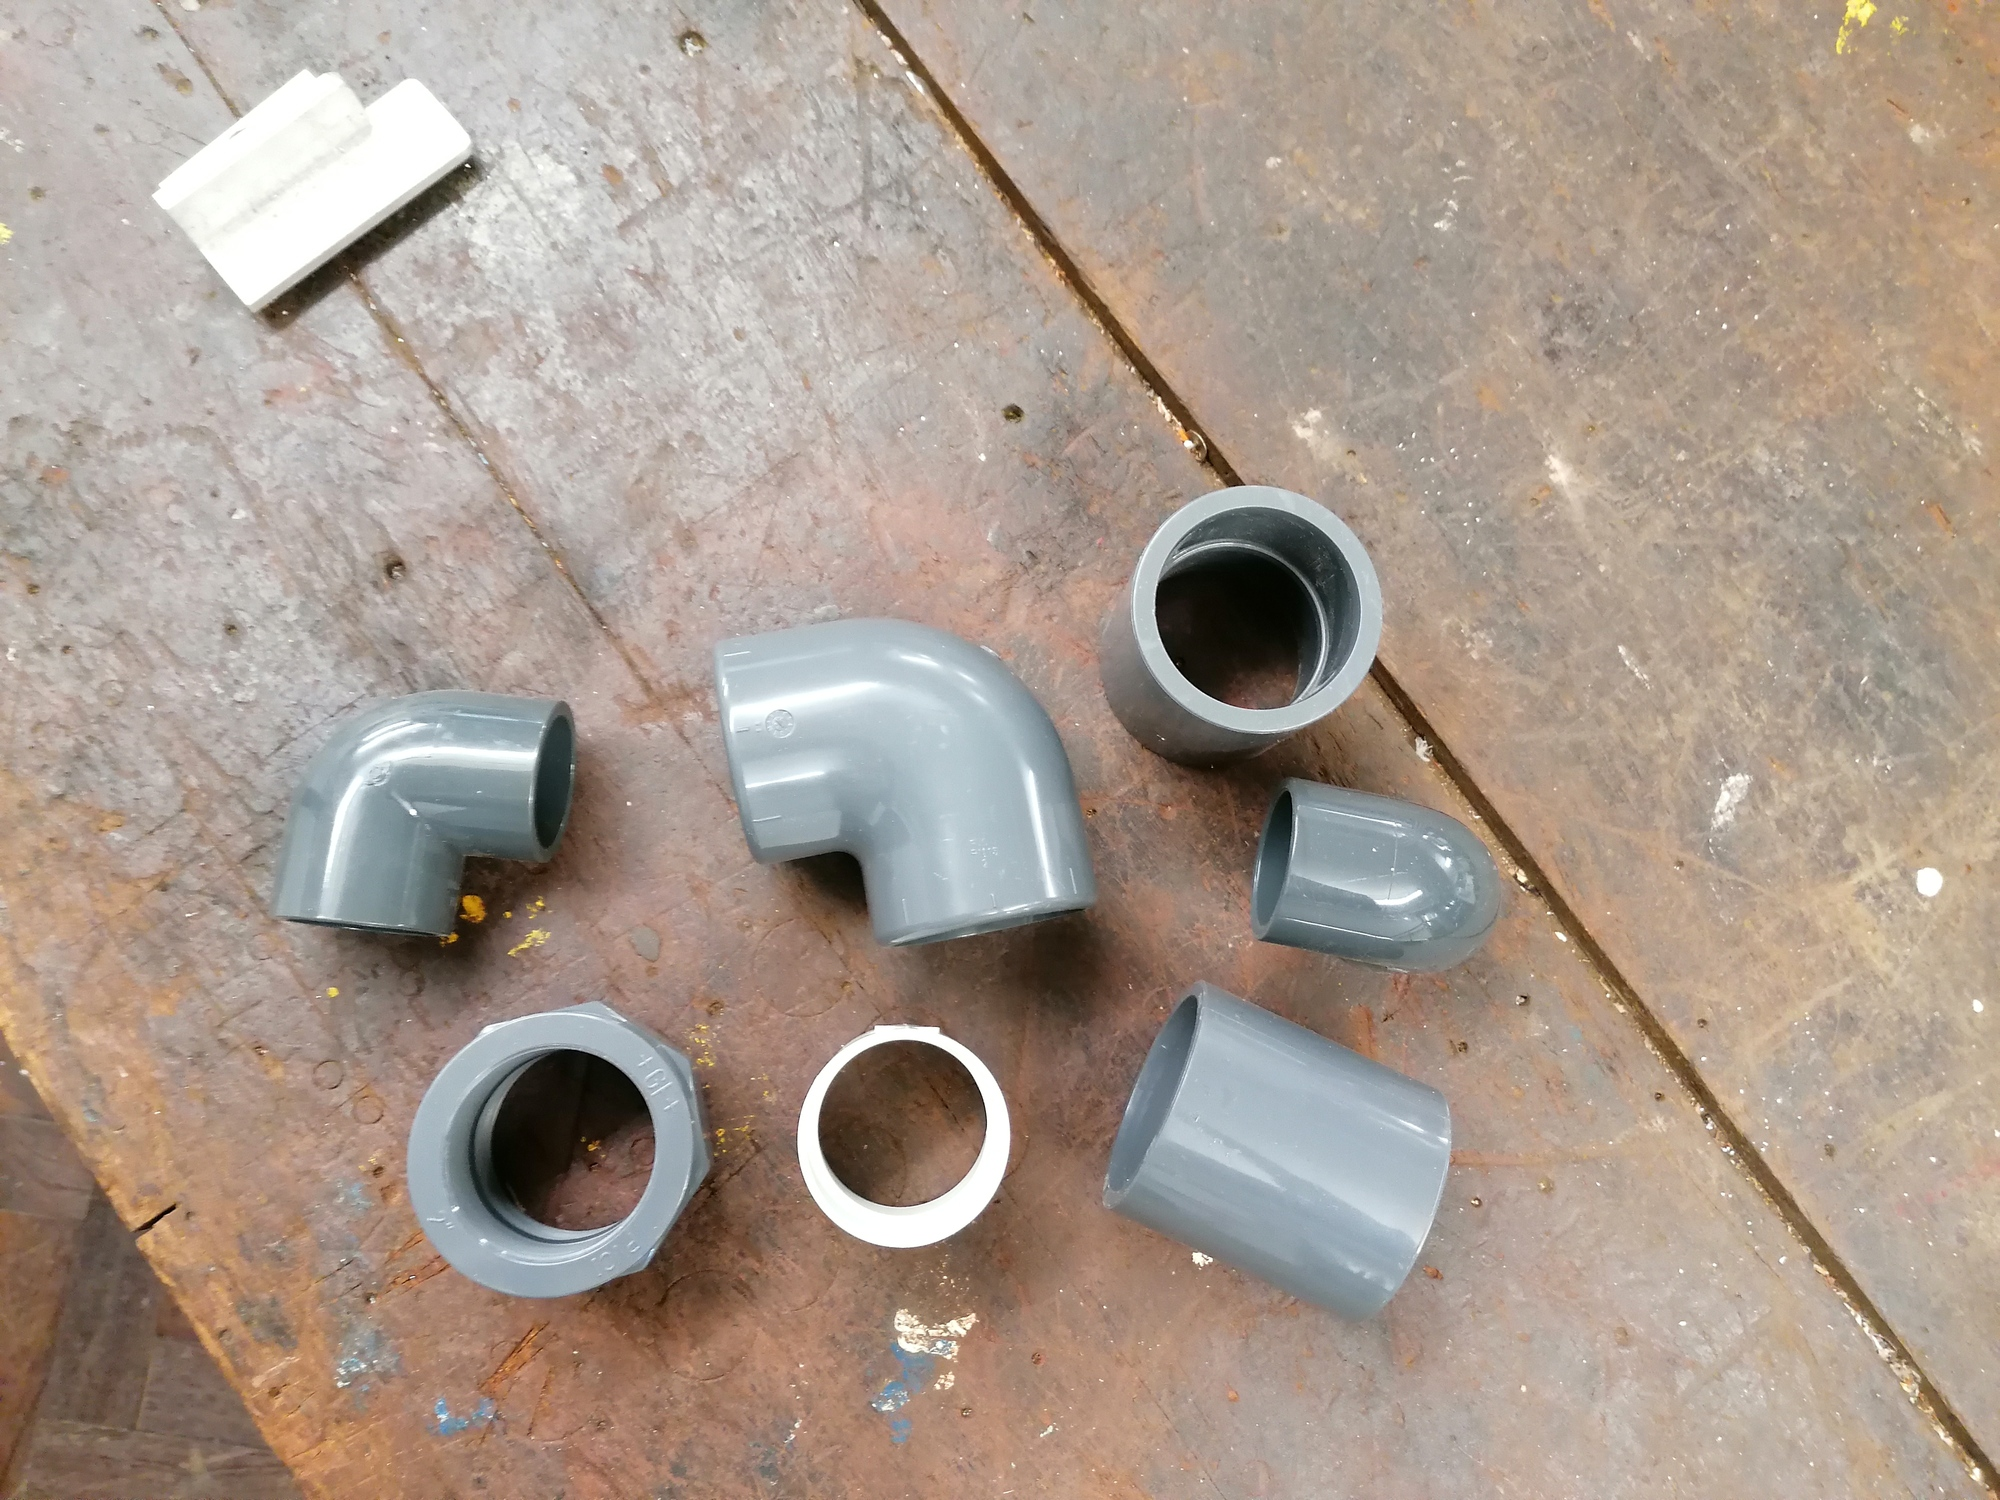nut: (402, 997, 717, 1298)
pipe: (710, 626, 1102, 956), (1102, 977, 1452, 1327), (269, 693, 581, 949), (1102, 484, 1383, 766), (795, 1016, 1013, 1253), (1250, 777, 1506, 971)
